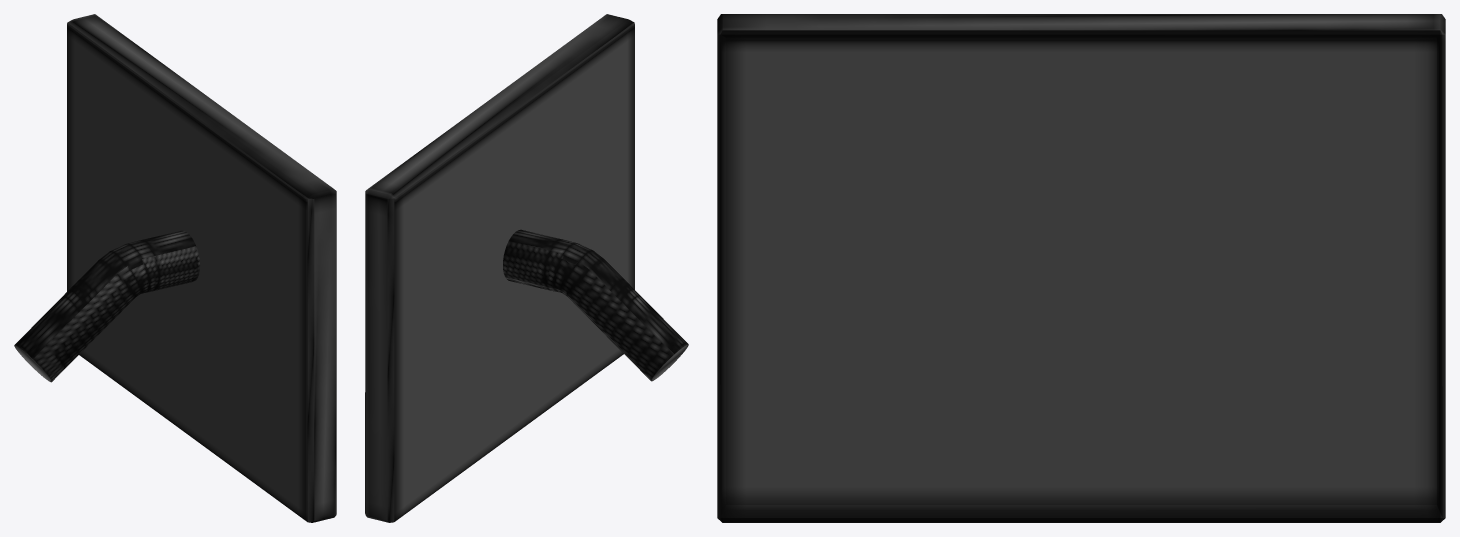
File: IFB399-Prop-WidescreenTV.obj
3 renders of one model, left to right at view 1: azimuth 30°, elevation 25°; view 2: azimuth 150°, elevation 25°; view 3: azimuth 270°, elevation 25°, orthographic. The views are drawn at different scales.
Parts seen in each view (by area): view 1: Prop-WidescreenTV_Cube, Connector_Cylinder; view 2: Prop-WidescreenTV_Cube, Connector_Cylinder; view 3: Prop-WidescreenTV_Cube.
Boxes of the visible parts, left/top/right/bottom form: Prop-WidescreenTV_Cube: left=67, top=14, right=336, bottom=522; Connector_Cylinder: left=14, top=230, right=200, bottom=382; Prop-WidescreenTV_Cube: left=365, top=14, right=634, bottom=522; Connector_Cylinder: left=503, top=229, right=688, bottom=381; Prop-WidescreenTV_Cube: left=717, top=14, right=1445, bottom=522.
Bounding box in the file's own units: 1.22 × 1.94 × 2.61.
